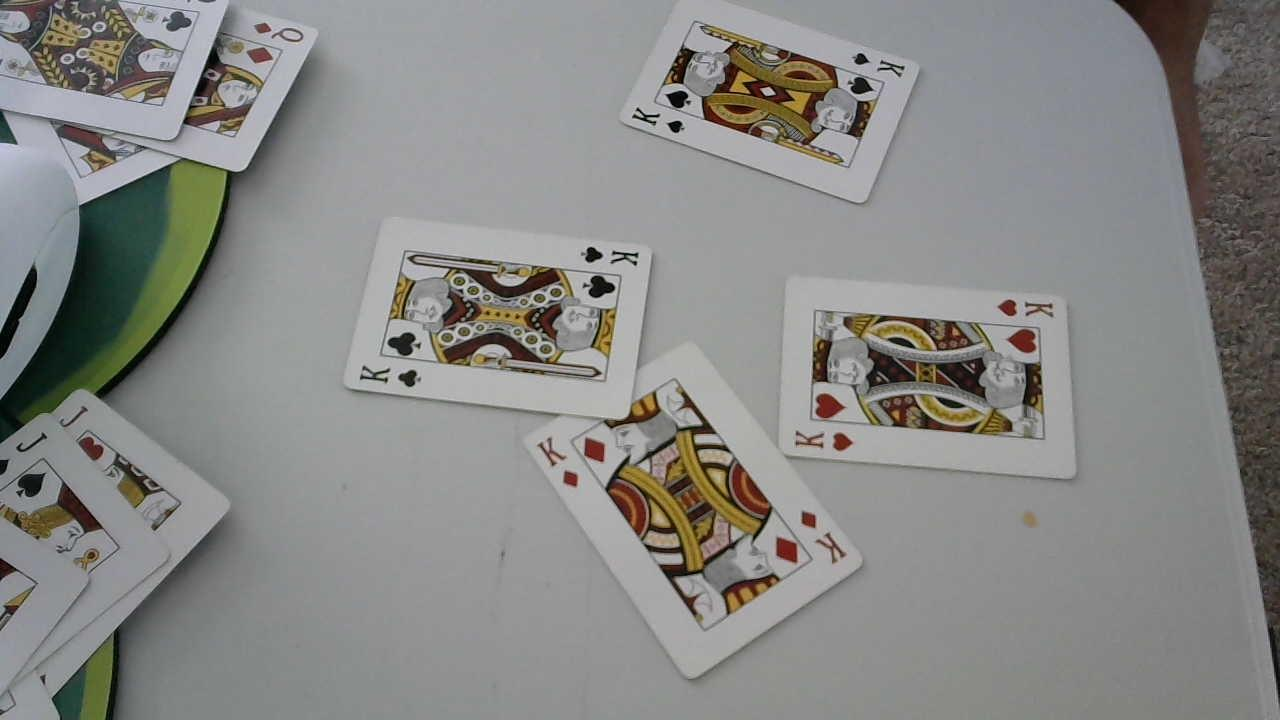KC: (357, 360, 426, 391), (579, 246, 642, 270)
KD: (796, 507, 851, 570), (534, 437, 583, 493)
KH: (994, 293, 1059, 321), (792, 427, 857, 452)
KS: (630, 102, 691, 141), (851, 49, 911, 81)
QD: (251, 18, 305, 45)
